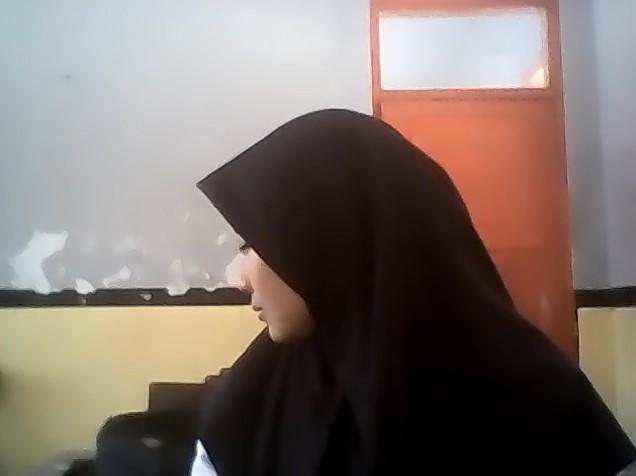cheating: (165, 99, 636, 476)
